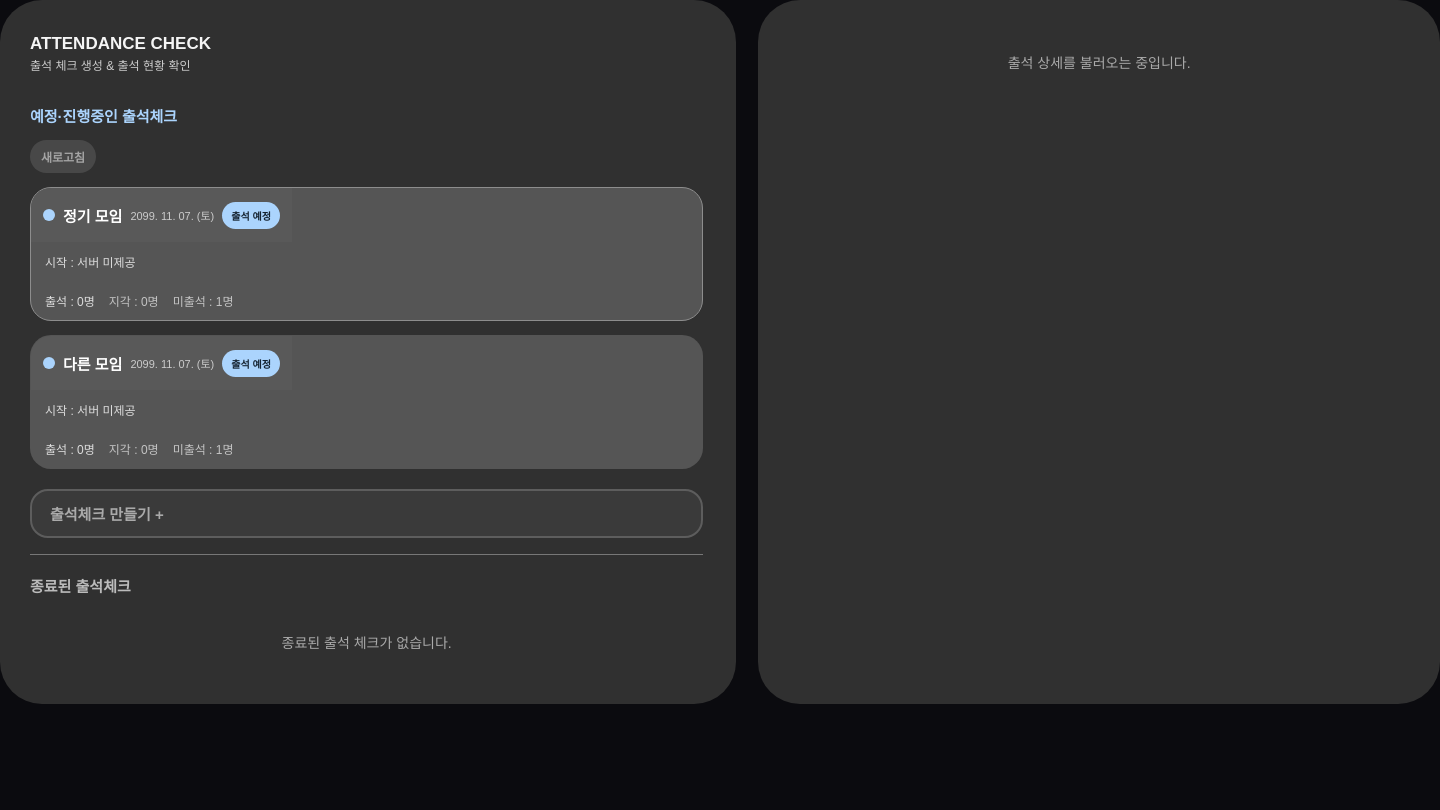
it: 늦게 도착한 이전 출석 상세 응답은 새 선택을 덮어쓰지 않는다
Click the button "다른 모임" at (161, 363), box [30,335,703,469]
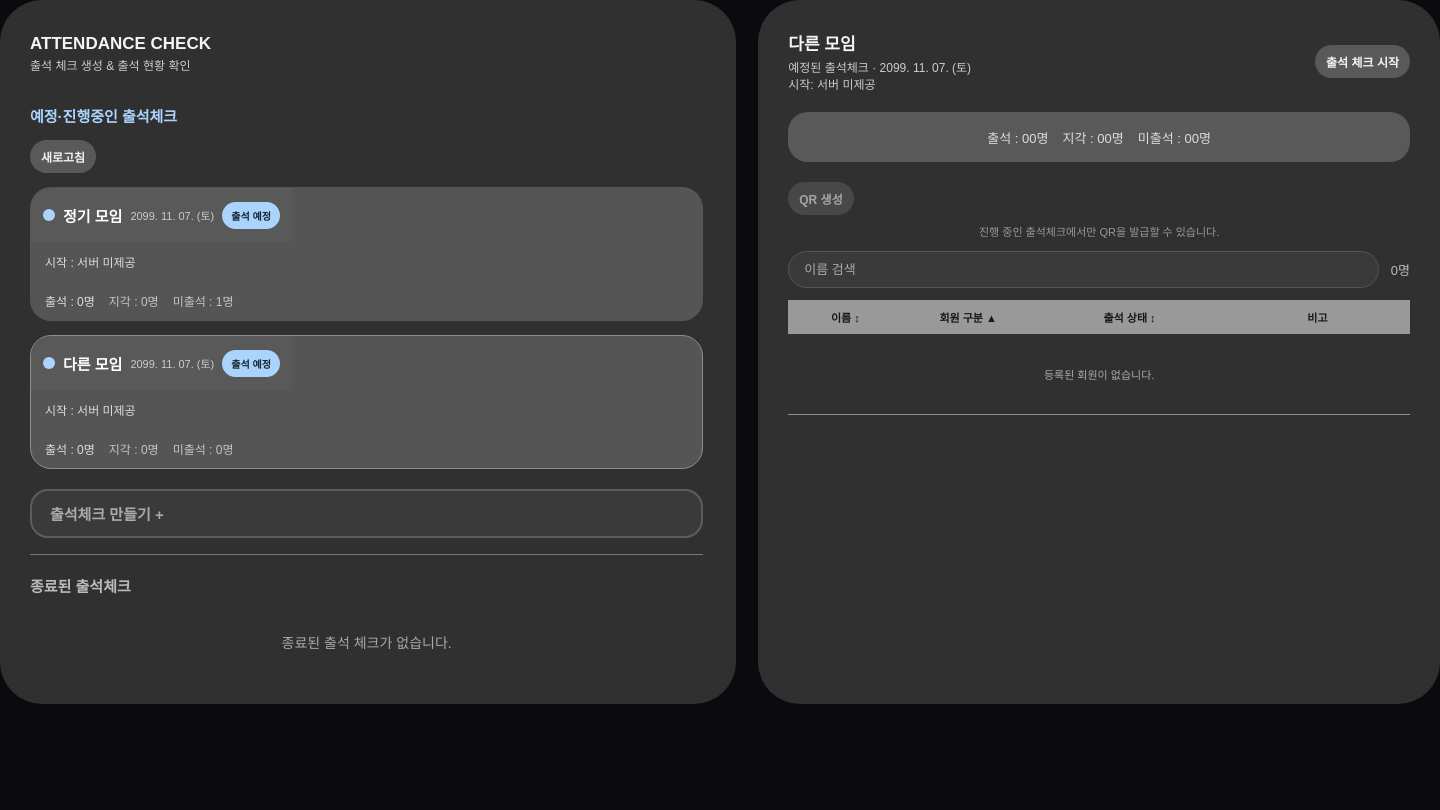
Expected: the button "출석 체크 시작" is shown, [1315,44,1410,78]
Expected: the heading "다른 모임" is shown, [788,35,856,54]
